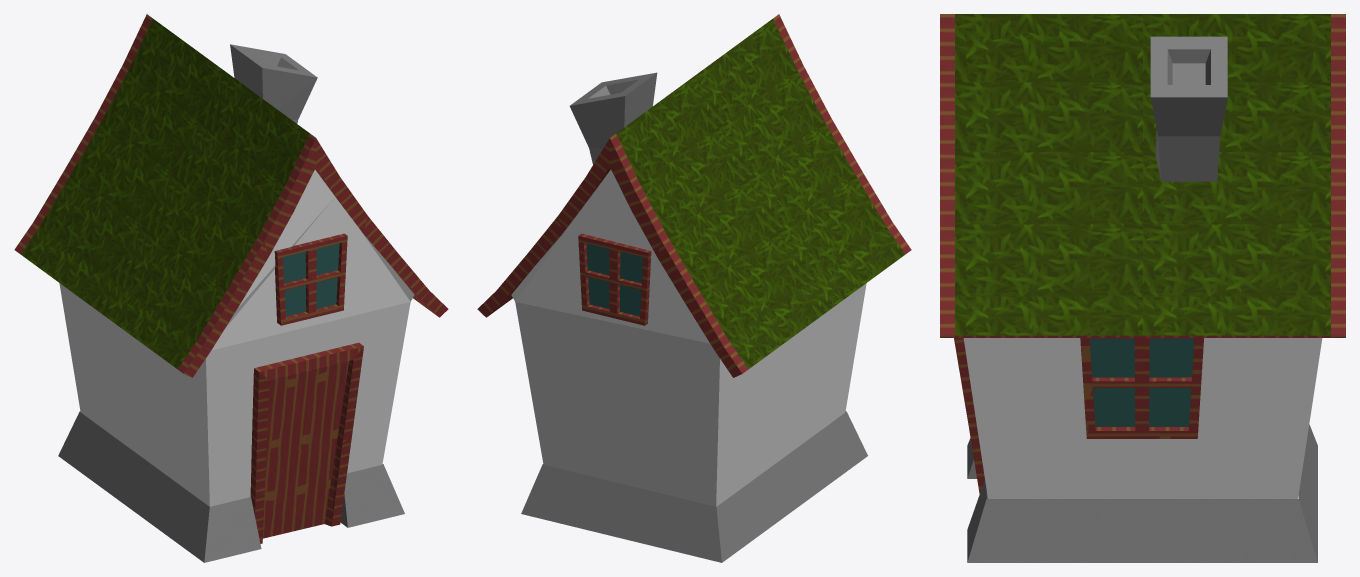
The model's file is a3d_villagehouse_small.fbx.
The picture shows the model from 3 angles, left to right: view 1: azimuth 30°, elevation 25°; view 2: azimuth 150°, elevation 25°; view 3: azimuth 270°, elevation 25°; orthographic projection. The views are drawn at different scales.
Parts seen in each view (by area): view 1: villagehouse_small_LOD0; view 2: villagehouse_small_LOD0; view 3: villagehouse_small_LOD0.
Boxes of the visible parts, bbox=[...] form: villagehouse_small_LOD0: bbox=[14, 14, 448, 562]; villagehouse_small_LOD0: bbox=[477, 14, 911, 562]; villagehouse_small_LOD0: bbox=[940, 14, 1345, 562].
Size of what is drawn, in the model's own units: 11.69 by 17.33 by 12.93.
